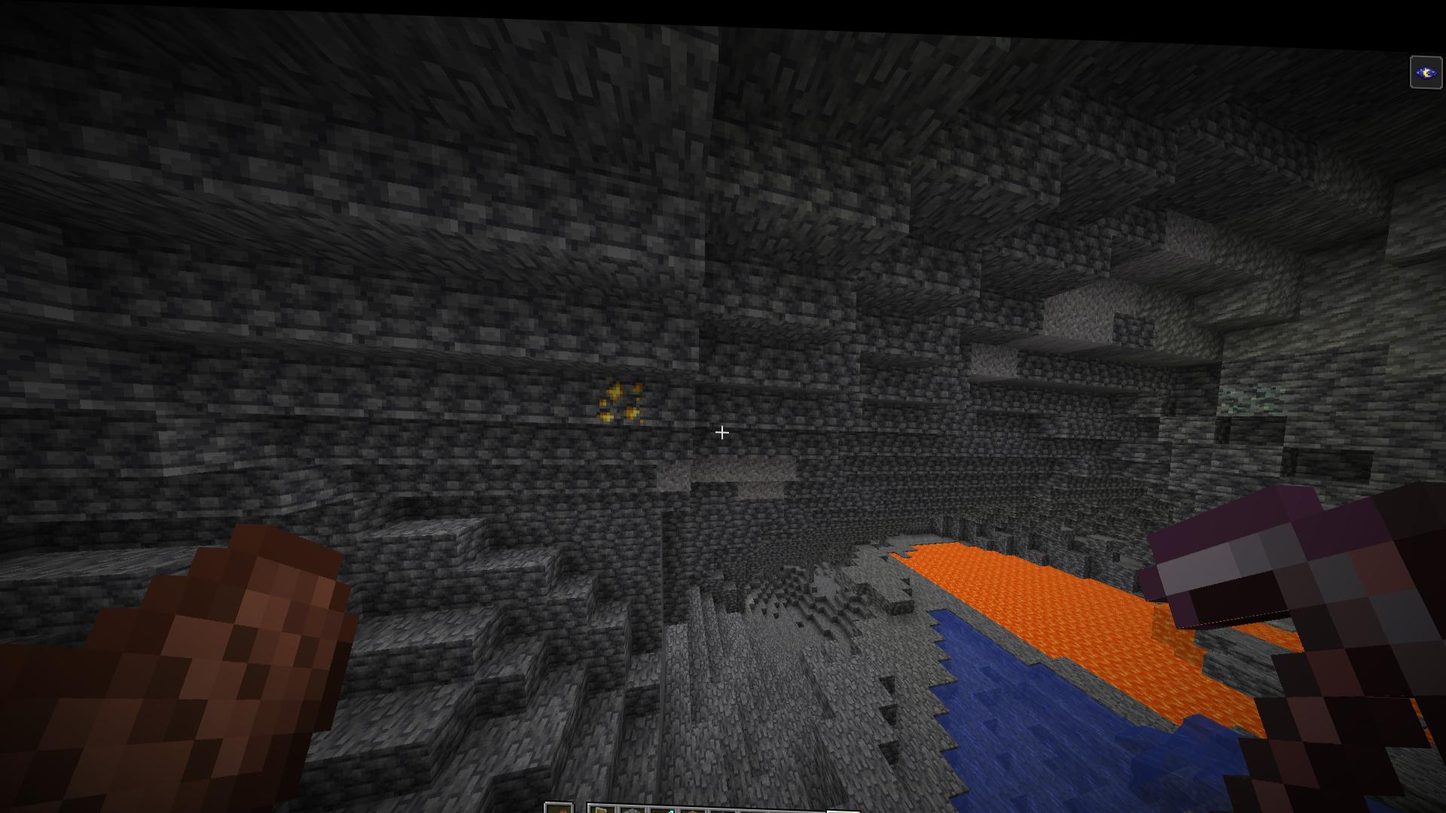gold ore: (595, 367, 646, 425)
